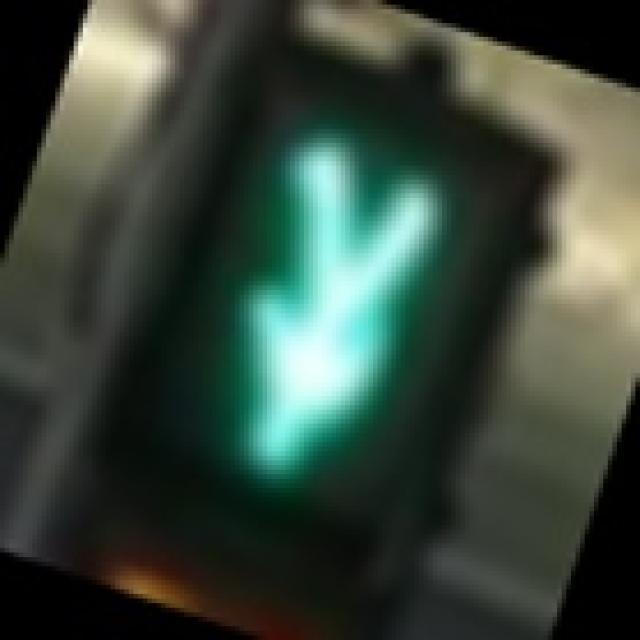geen-crossing: (97, 59, 534, 566)
